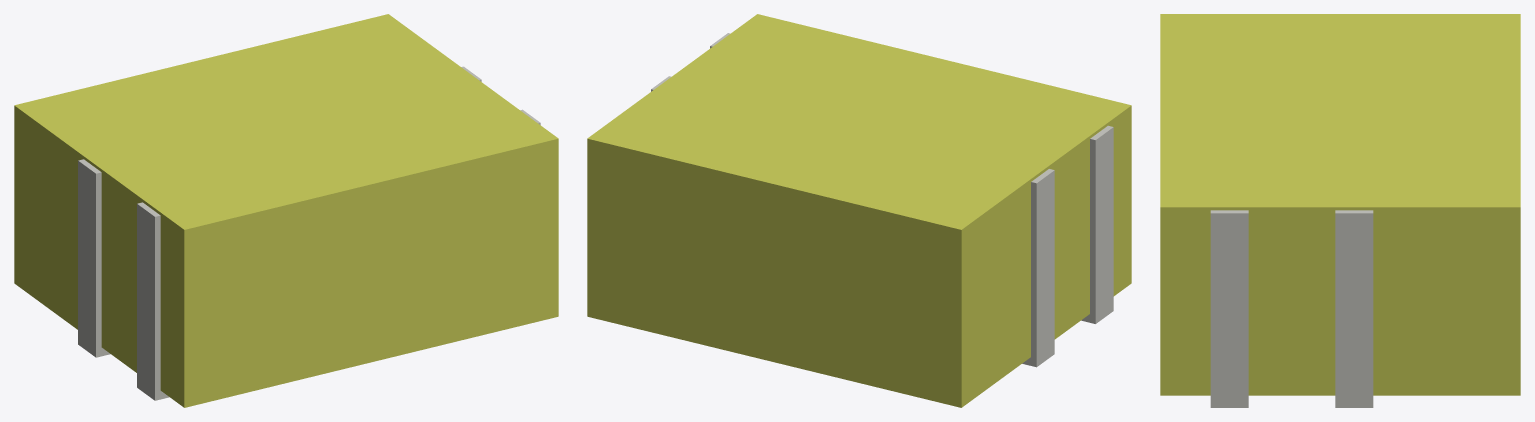
Rendered from Gilet_Haute_Visibilite_SDIS37.glb.
3 views of the same model, side by side, from view 1: azimuth 30°, elevation 25°; view 2: azimuth 150°, elevation 25°; view 3: azimuth 270°, elevation 25° (orthographic). The views are drawn at different scales.
Visible parts, largest first — view 1: 00_Gilet_HV, 01_Bande_reflechissante, 02_Bande_reflechissante_haute; view 2: 00_Gilet_HV, 02_Bande_reflechissante_haute, 01_Bande_reflechissante; view 3: 00_Gilet_HV, 01_Bande_reflechissante, 02_Bande_reflechissante_haute.
Part boxes in pixels (x1,y1,x2,y2): 00_Gilet_HV: [14, 14, 558, 407]; 01_Bande_reflechissante: [78, 66, 481, 357]; 02_Bande_reflechissante_haute: [137, 109, 540, 400]; 00_Gilet_HV: [587, 14, 1131, 407]; 02_Bande_reflechissante_haute: [710, 33, 1113, 323]; 01_Bande_reflechissante: [651, 76, 1054, 367]; 00_Gilet_HV: [1160, 14, 1520, 395]; 01_Bande_reflechissante: [1335, 210, 1373, 407]; 02_Bande_reflechissante_haute: [1210, 210, 1248, 407].
Bounding box in the file's own units: 0.68 × 0.315 × 0.52.
